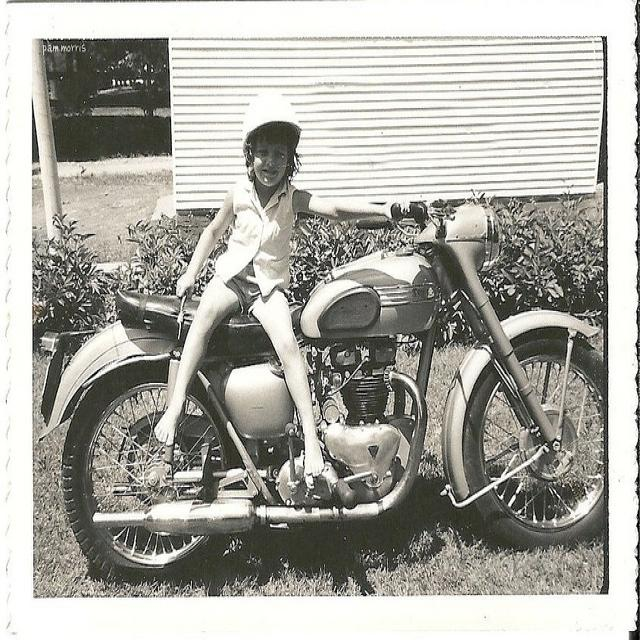motor: (38, 193, 607, 589)
